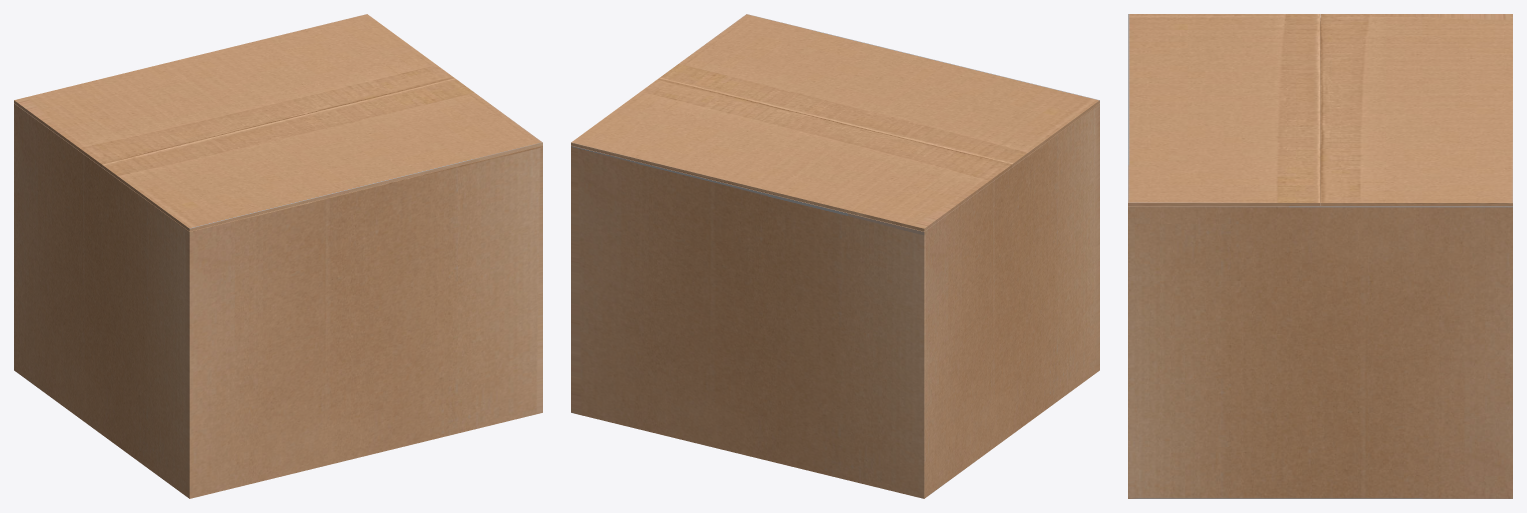
3 views of the same model, side by side, from view 1: azimuth 30°, elevation 25°; view 2: azimuth 150°, elevation 25°; view 3: azimuth 270°, elevation 25° (orthographic). The views are drawn at different scales.
Parts seen in each view (by area): view 1: Box, Boxlid1, Boxlid2; view 2: Box, Boxlid2, Boxlid1; view 3: Box, Boxlid1, Boxlid2.
Boxes of the visible parts, <box> form: Box: <box>14,103,542,498</box>; Boxlid1: <box>102,78,542,231</box>; Boxlid2: <box>14,14,454,167</box>; Box: <box>571,103,1099,498</box>; Boxlid2: <box>571,78,1011,231</box>; Boxlid1: <box>659,14,1099,167</box>; Box: <box>1128,18,1512,498</box>; Boxlid1: <box>1128,14,1320,205</box>; Boxlid2: <box>1320,14,1512,205</box>.
Size of the model in its own units: 36 by 26.31 by 31.
1 material, 1 textured.
